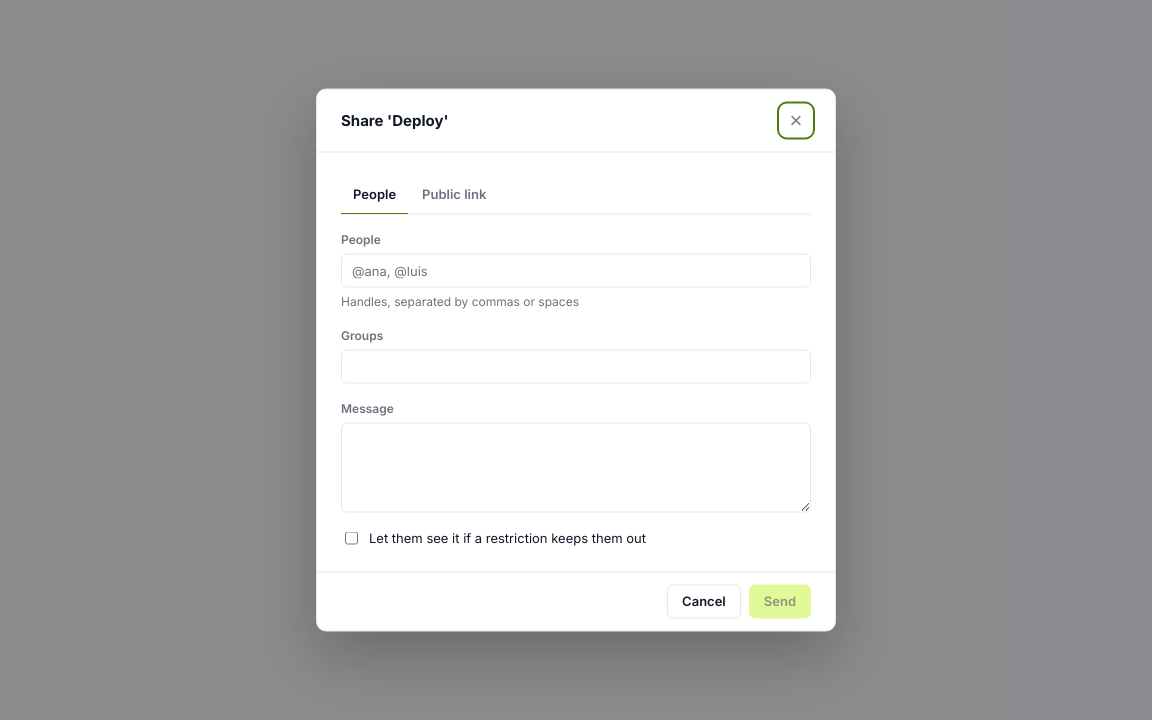
Test: ShareDialog › sends to people and groups and says who can not see it
Expected: the button "Send" is disabled, [749, 584, 811, 618]
In the field labelled "People": (576, 270) [341, 253, 811, 287], type "@ana, luis"
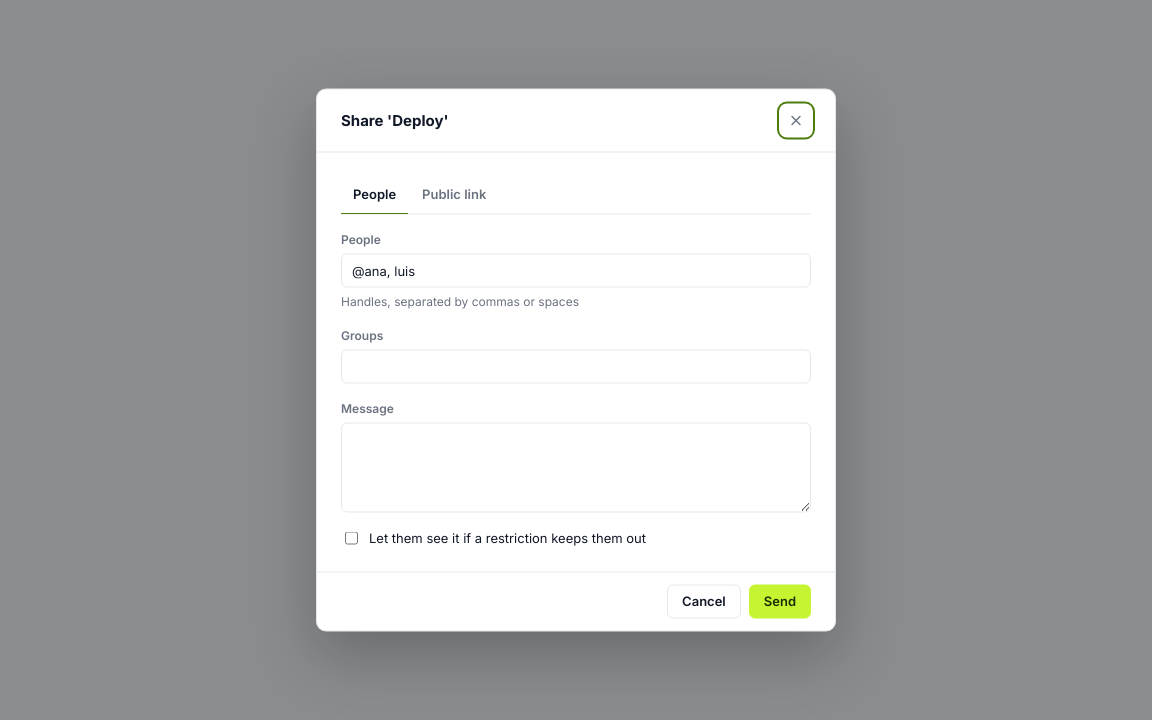
In the field labelled "Groups": (576, 366) [341, 349, 811, 383], type "equipo"
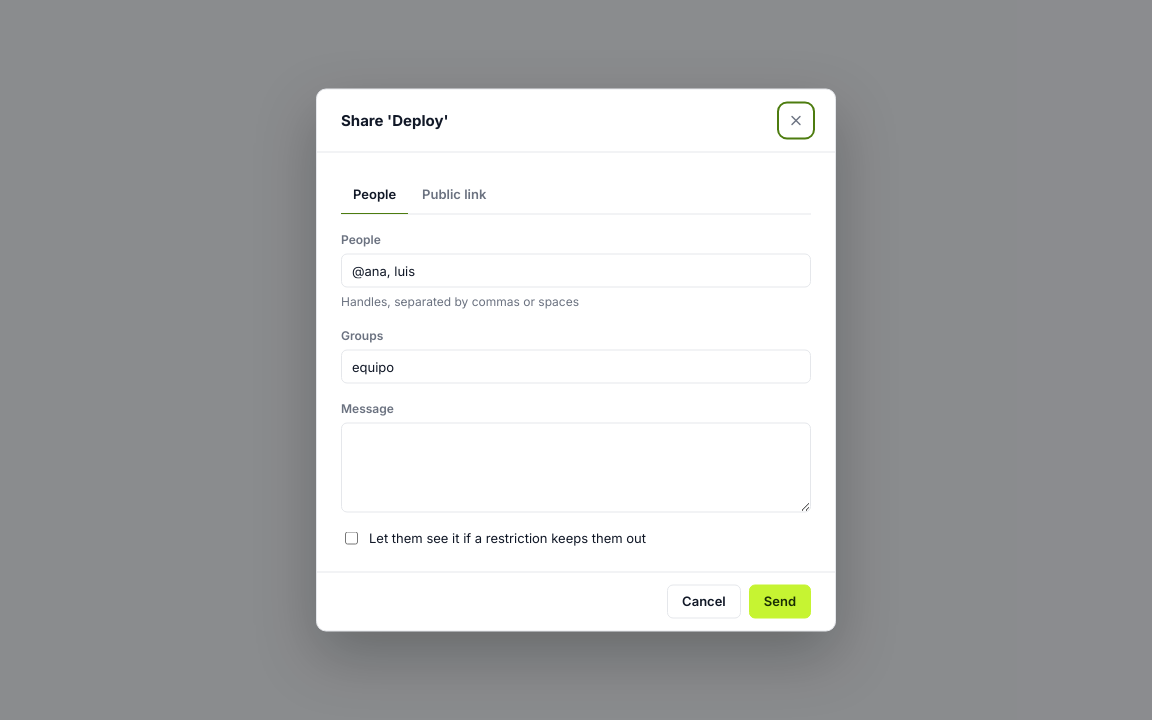
In the text box labelled "Message": (576, 467) [341, 422, 811, 512], type "Léela"
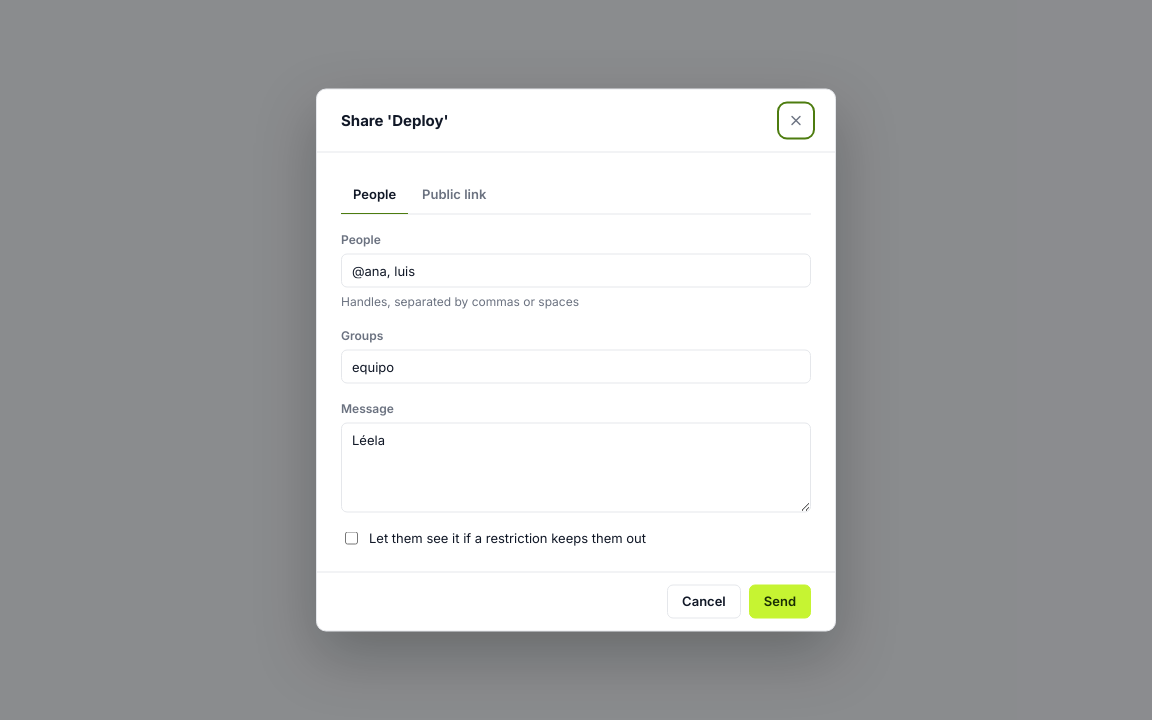
Click the button "Send": click(780, 602) [749, 584, 811, 618]
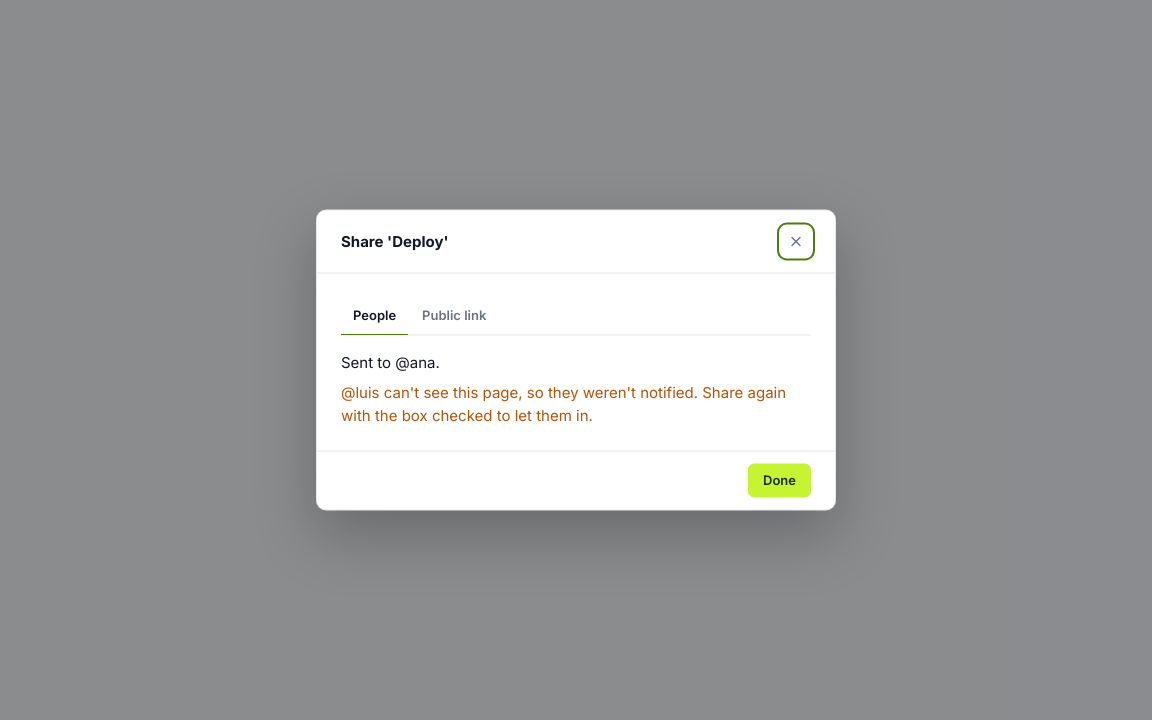
Expected: the text "Sent to @ana." is shown, [341, 352, 440, 371]
Expected: the text "@luis can't see this page" is shown, [341, 382, 786, 424]
